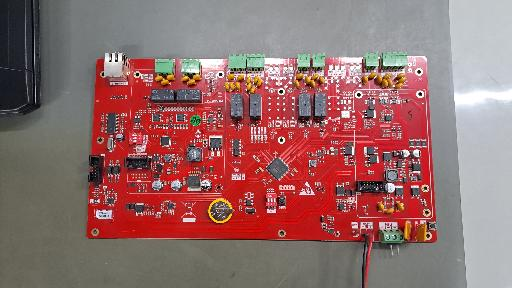var: (416, 223, 427, 242), (404, 220, 412, 240), (396, 202, 404, 211), (397, 77, 407, 84), (166, 74, 175, 81), (376, 75, 383, 84), (387, 78, 393, 88), (246, 75, 252, 85), (385, 208, 395, 214), (396, 73, 404, 80), (368, 72, 376, 79), (193, 74, 201, 81), (378, 202, 384, 211), (294, 79, 300, 88), (187, 79, 196, 85), (362, 75, 368, 84), (382, 79, 388, 88), (304, 76, 310, 85), (253, 76, 259, 85), (296, 73, 303, 80), (383, 73, 391, 79), (161, 79, 169, 85), (227, 74, 235, 80), (249, 86, 255, 94), (237, 75, 245, 81), (310, 80, 316, 88), (235, 82, 240, 91), (394, 83, 403, 88), (319, 76, 324, 85), (230, 82, 235, 91), (225, 82, 230, 91), (312, 74, 319, 80), (246, 83, 251, 91), (155, 76, 163, 81), (257, 79, 262, 87), (182, 76, 189, 81)
